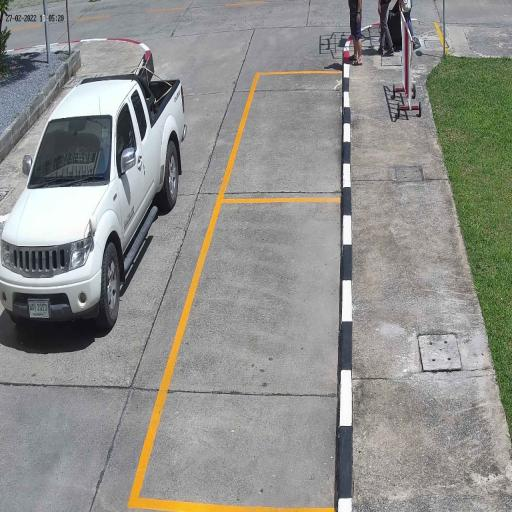car: (0, 72, 188, 335)
